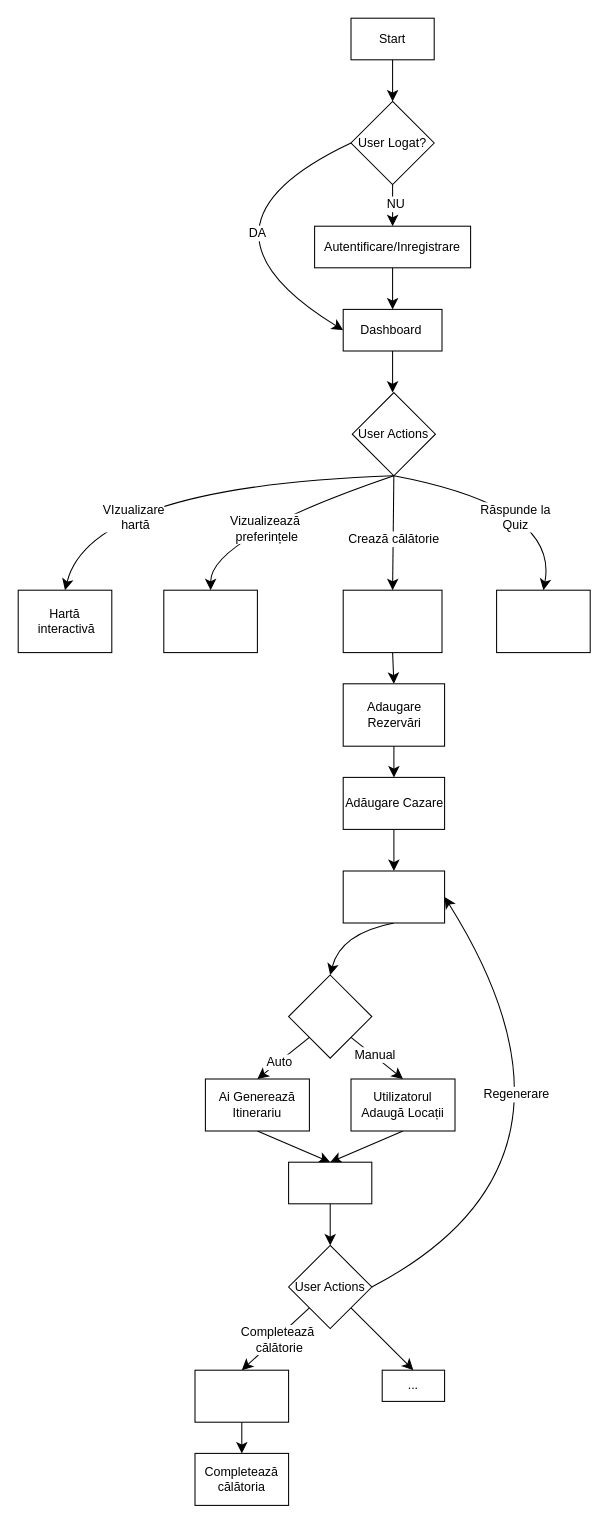
This 608x1524 diagram has some shape labels left out. Each missing label, with the centre of its shape:
"Completează progresul" goes at pixel 241 1395.
"Gamificare" goes at pixel 543 621.
"Generare itinerariu" goes at pixel 393 896.
"Itinerariu Auto/Manual?" goes at pixel 330 1016.
"LIstă preferințe" goes at pixel 210 621.
"Selectare Destinație" goes at pixel 392 621.
"Verifică itinerariul" goes at pixel 330 1182.
